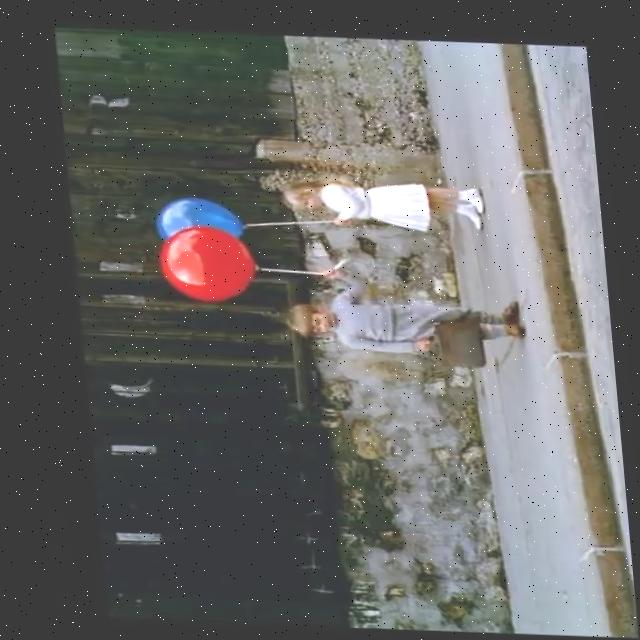balloon: (151, 223, 257, 302), (148, 194, 243, 243)
